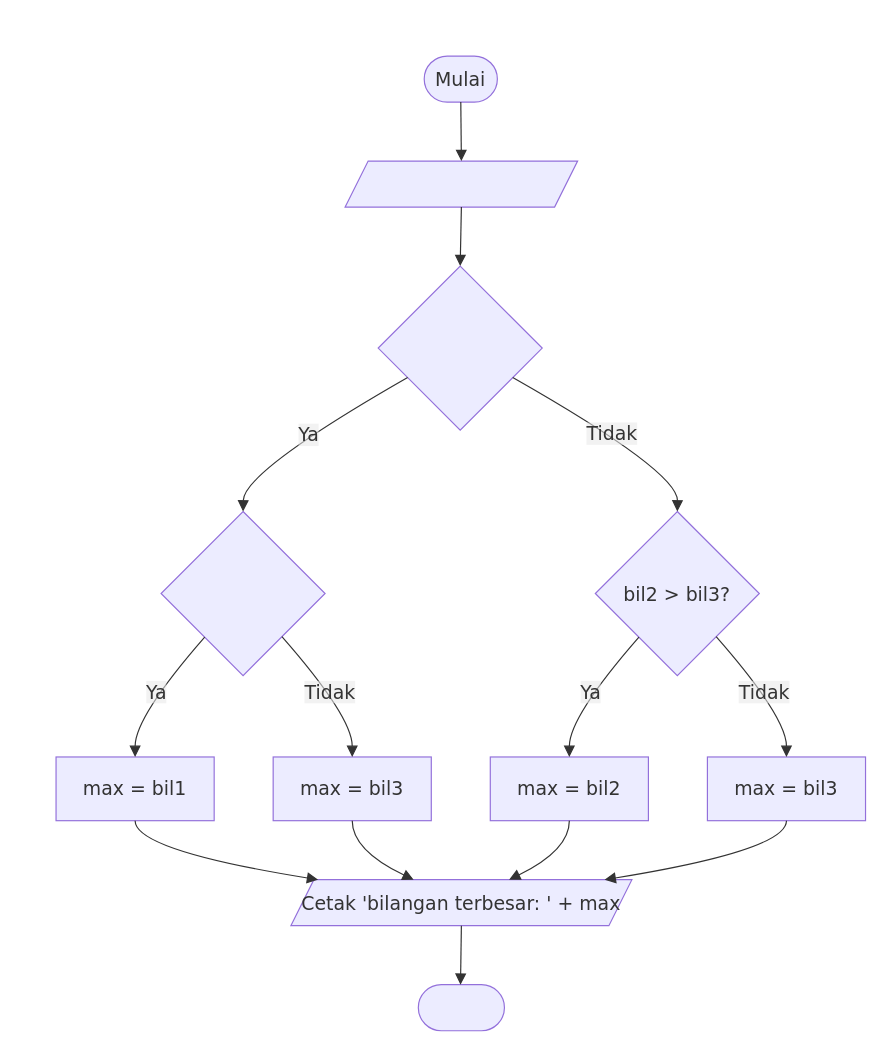
Image size: 886x1051. Some labels were removed from this diagram. The box of each missing label's shape, as (x1, y1, x2, y2) in pixels:
bil1 > bil2?: (377, 265, 542, 430)
bil1 > bil3?: (160, 510, 325, 676)
Input bil1, bil2, bil3: (344, 160, 578, 207)
Selesai: (417, 984, 504, 1031)
